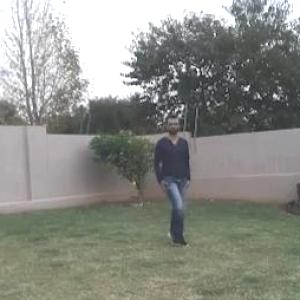follow: (156, 115, 194, 242)
